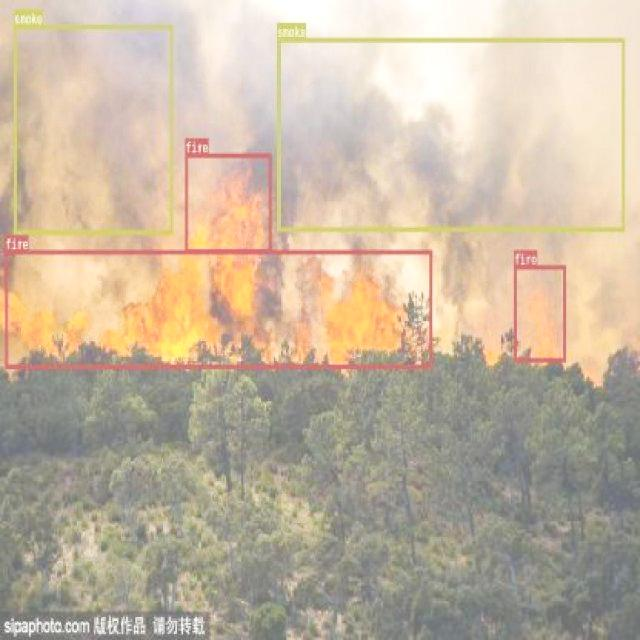fire: (4, 249, 432, 368), (184, 152, 270, 252), (512, 264, 566, 362)
smoke: (276, 38, 624, 230), (13, 24, 172, 233)
